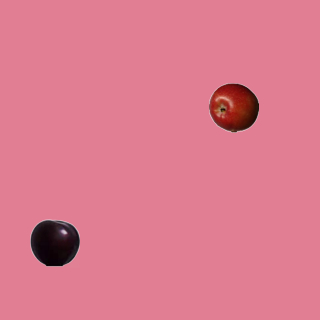Apple Braeburn: (208, 82, 258, 132)
Cherry Wax Black: (29, 217, 79, 267)
